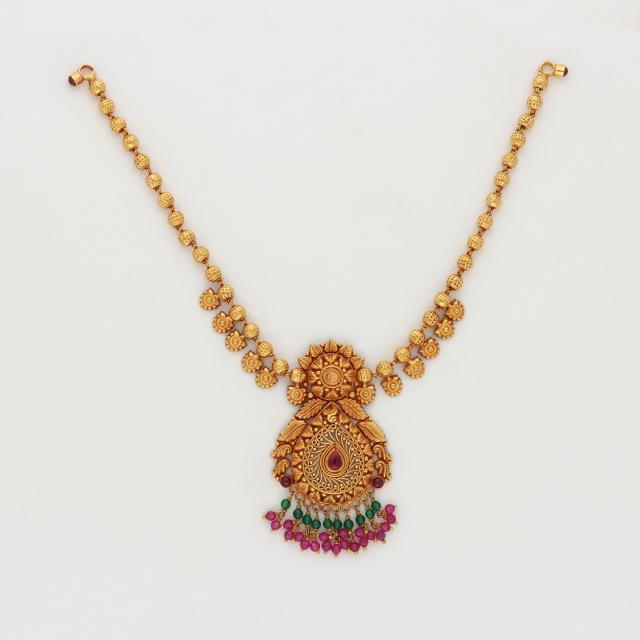missing gem: (327, 371, 338, 382)
